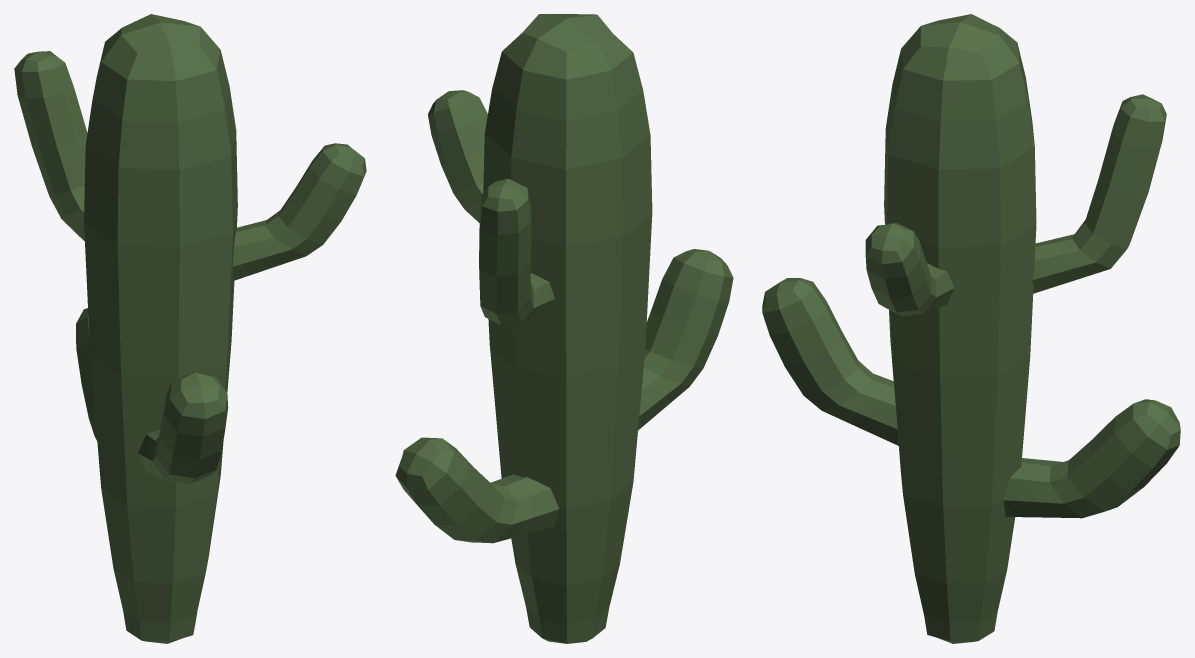
The model's file is Cactus_medium.glb.
3 views of the same model, side by side, from view 1: azimuth 30°, elevation 25°; view 2: azimuth 150°, elevation 25°; view 3: azimuth 270°, elevation 25° (orthographic).
Visible parts, largest first — view 1: Cactus_2; view 2: Cactus_2; view 3: Cactus_2.
Part boxes in pixels (left/top/right/bottom): Cactus_2: left=14, top=14, right=366, bottom=643; Cactus_2: left=395, top=14, right=733, bottom=643; Cactus_2: left=762, top=14, right=1180, bottom=643.
Size of the model in its own units: 0.7002 by 1.7 by 1.05.
